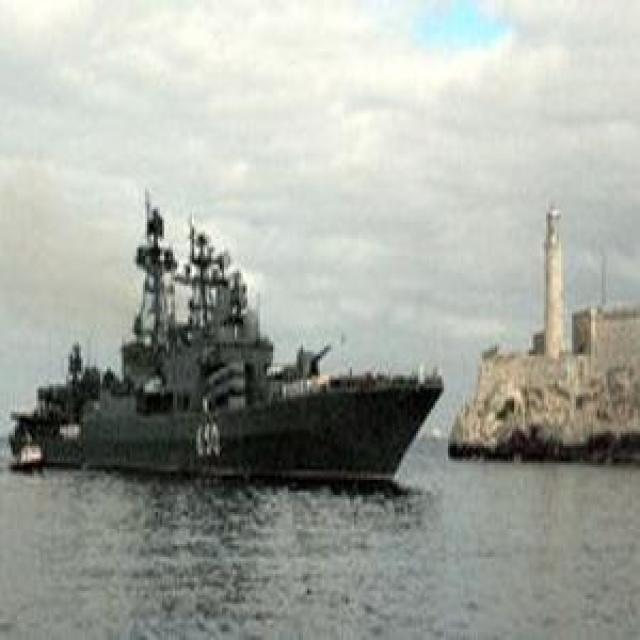navalvessels: (14, 193, 424, 488)
